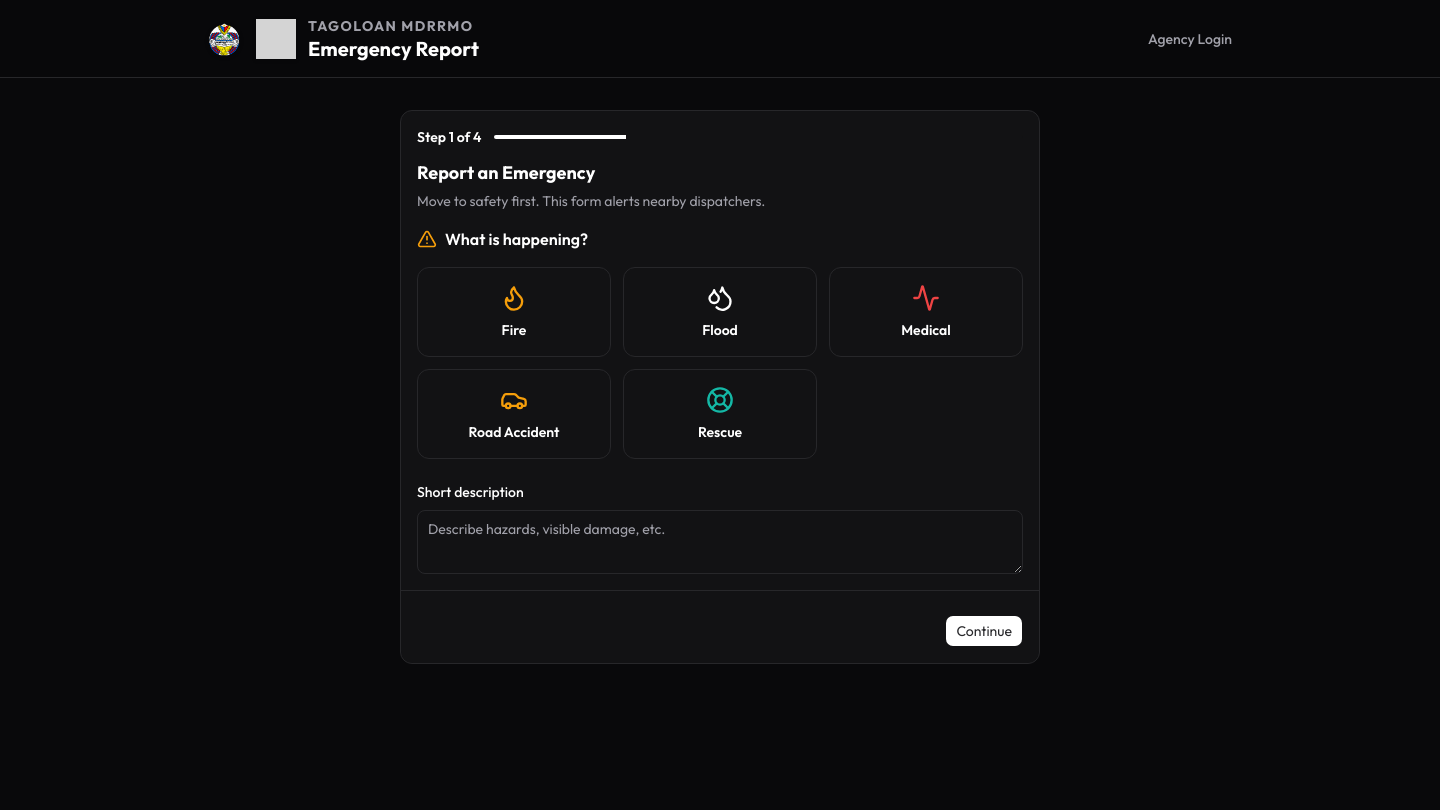
it: CitizenReport › validates step 1 inputs before allowing progression
Expected: the text "Step 1 of 4" is shown, x1=417 y1=127 x2=482 y2=147
Try to continue without selecting emergency type or description
Click the button "Continue" at (984, 631), box x1=945 y1=615 x2=1023 y2=647
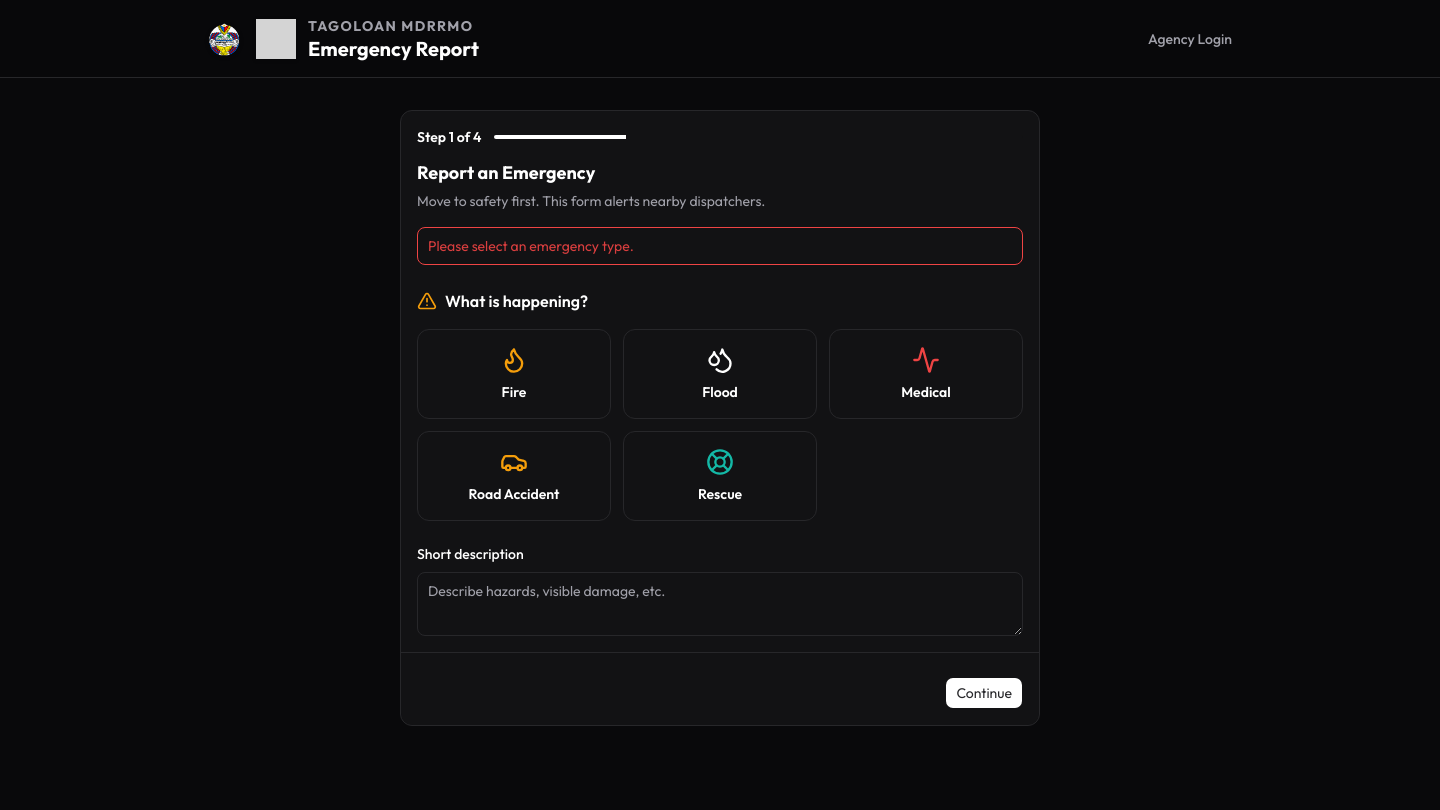
Expected: the text "Please select an emergency type." is shown, x1=428 y1=237 x2=634 y2=255
Select emergency type
Click the button "Fire" at (514, 374), box x1=417 y1=329 x2=611 y2=419
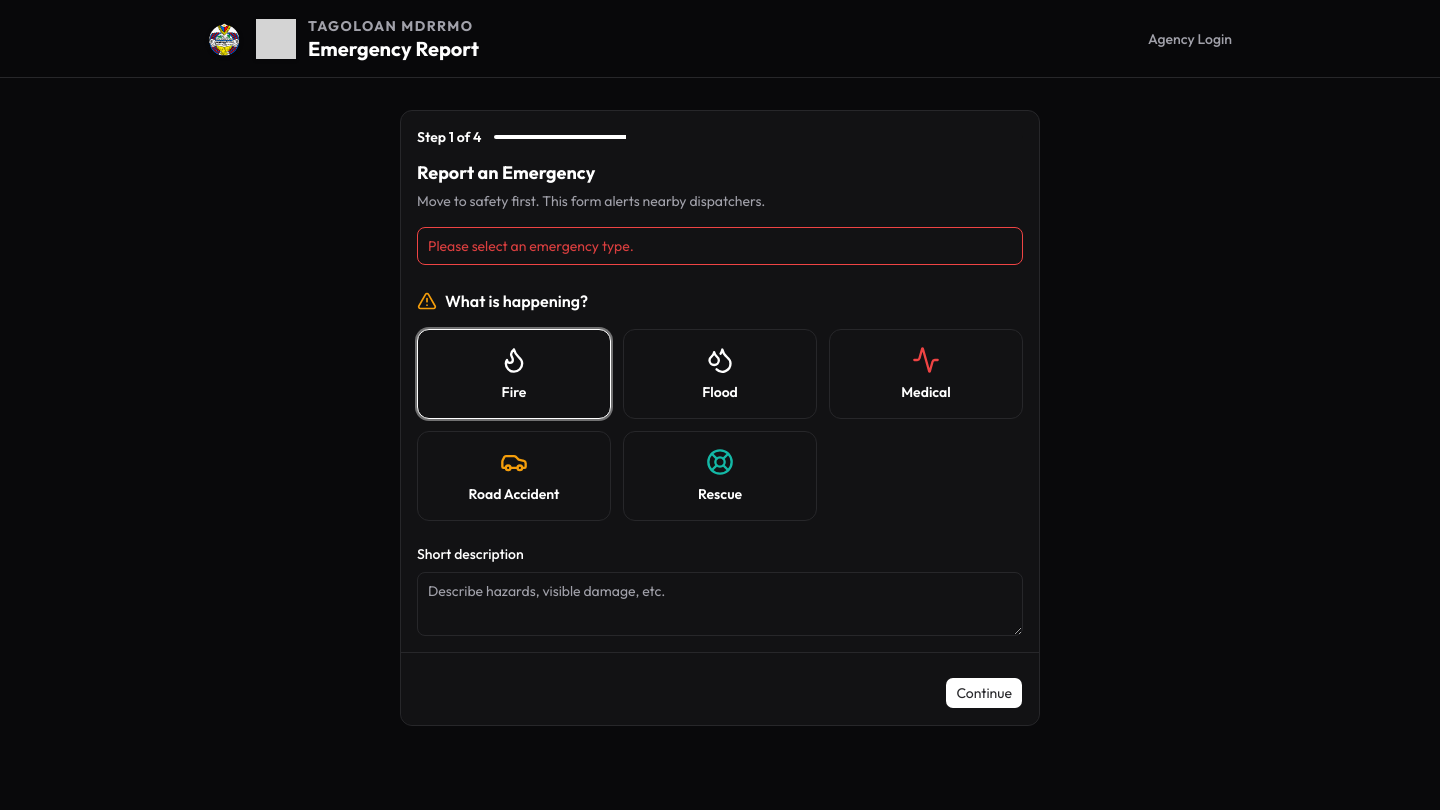
Click the button "Continue" at (984, 693), box x1=945 y1=677 x2=1023 y2=709
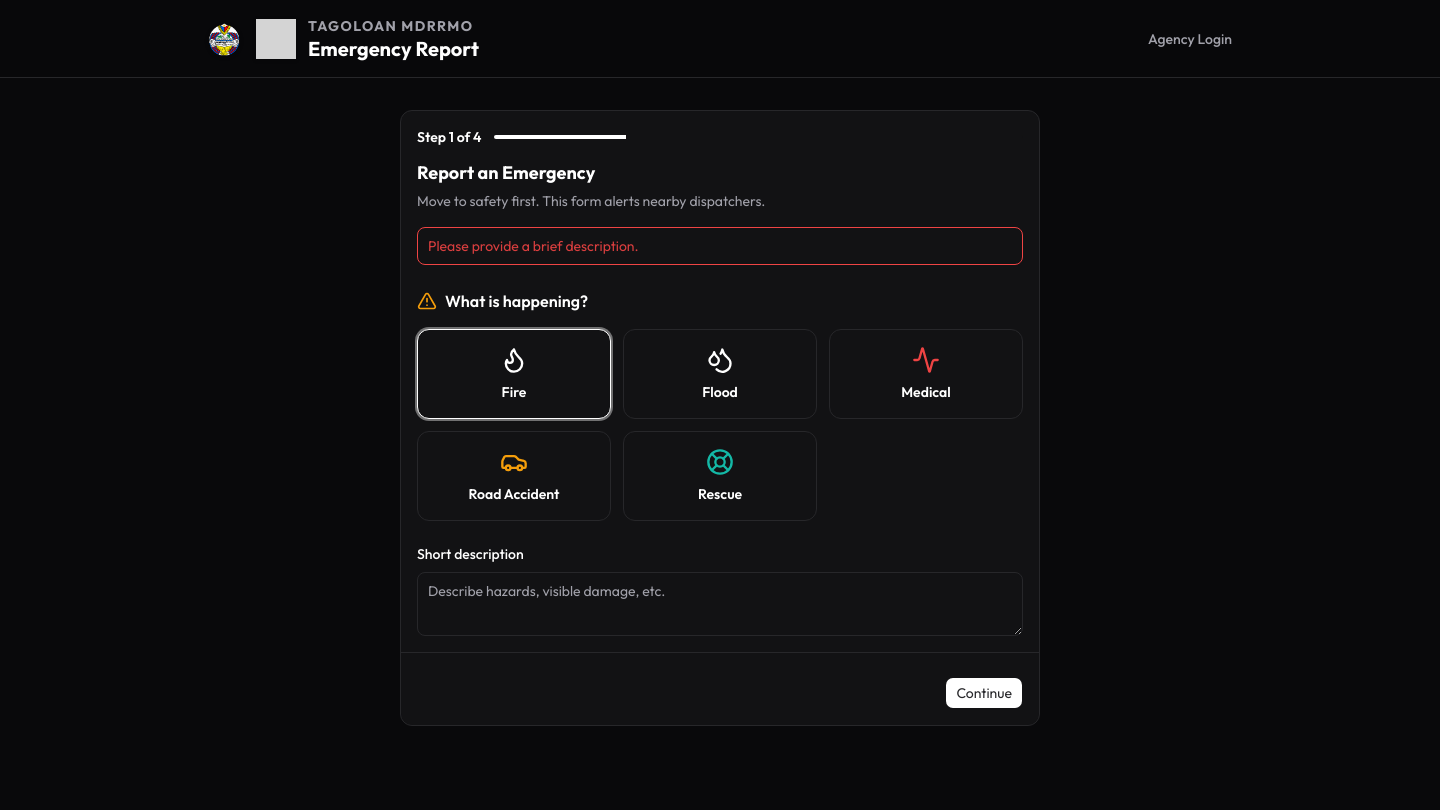
Expected: the text "Please provide a brief description." is shown, x1=428 y1=237 x2=639 y2=255
Fill description
Type "Huge fire at market" into the text box with placeholder "Describe hazards, visible damage, etc." at (720, 604), box x1=417 y1=572 x2=1023 y2=636
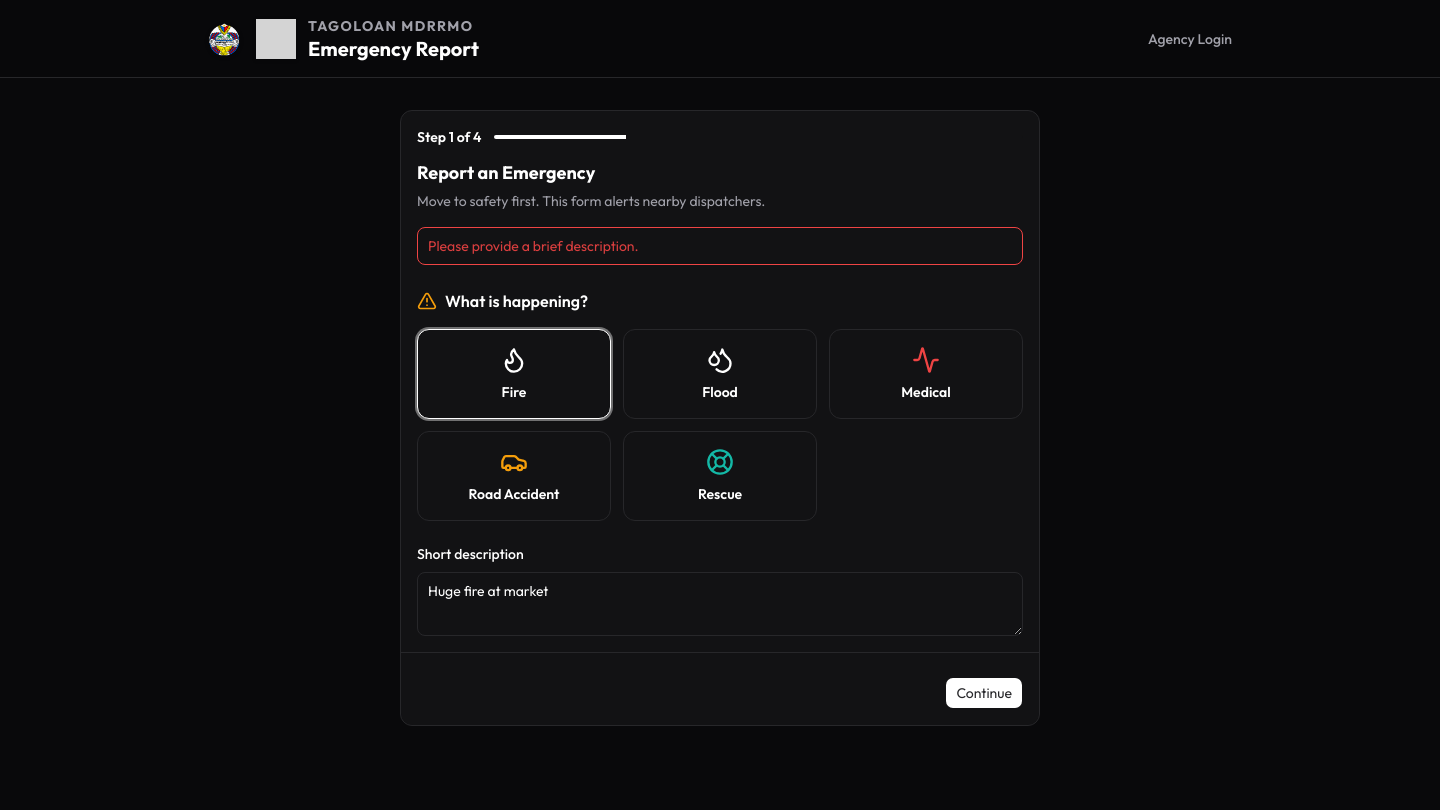
Click the button "Continue" at (984, 693), box x1=945 y1=677 x2=1023 y2=709
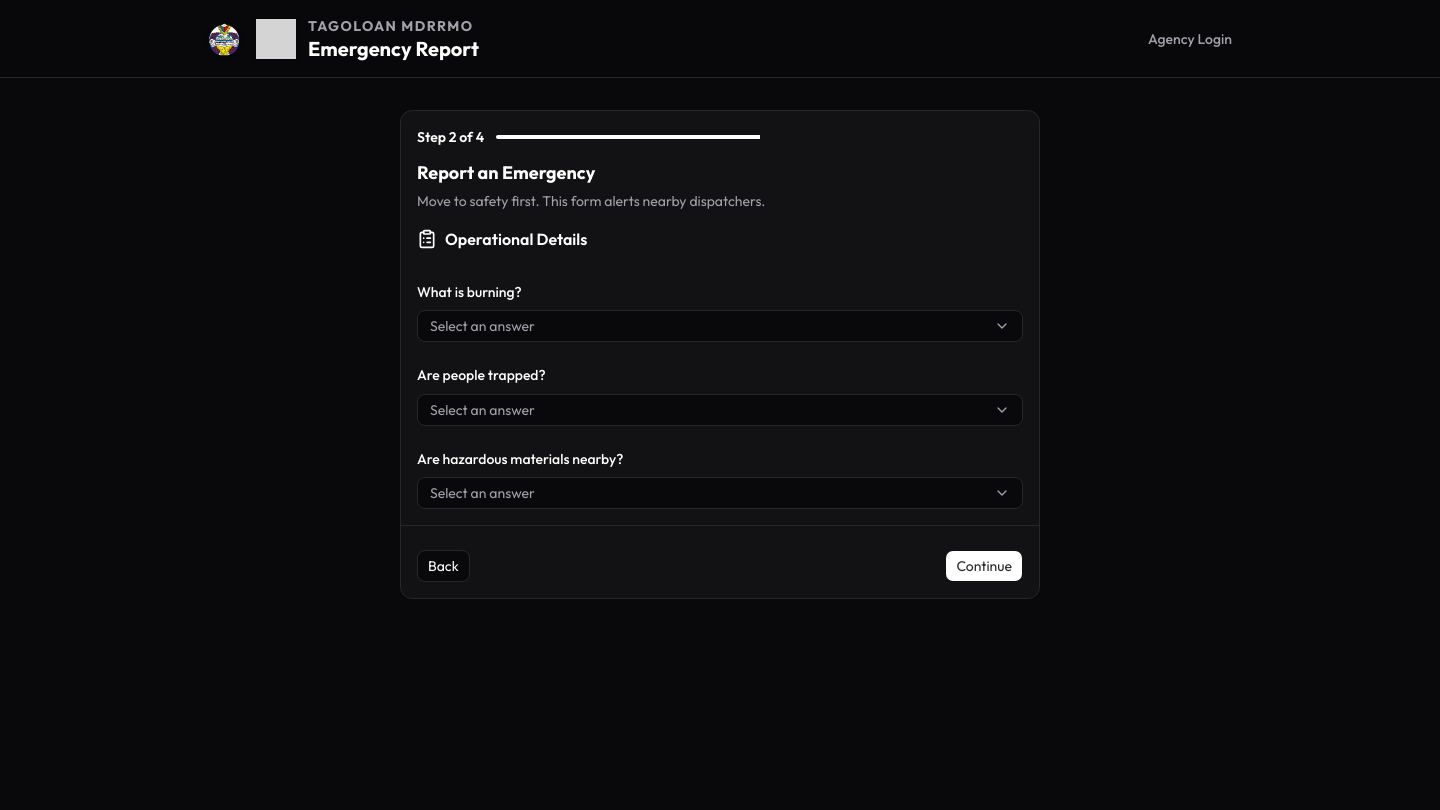
Expected: the text "Step 2 of 4" is shown, x1=417 y1=127 x2=484 y2=147
